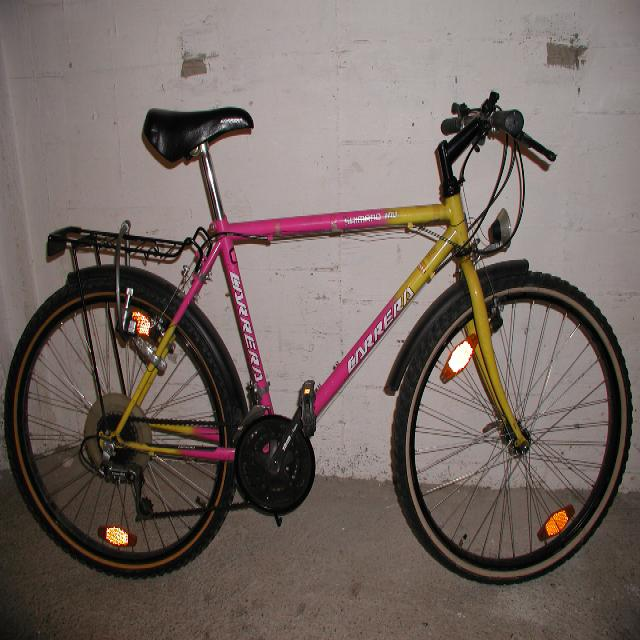bicycle: (4, 89, 633, 584)
